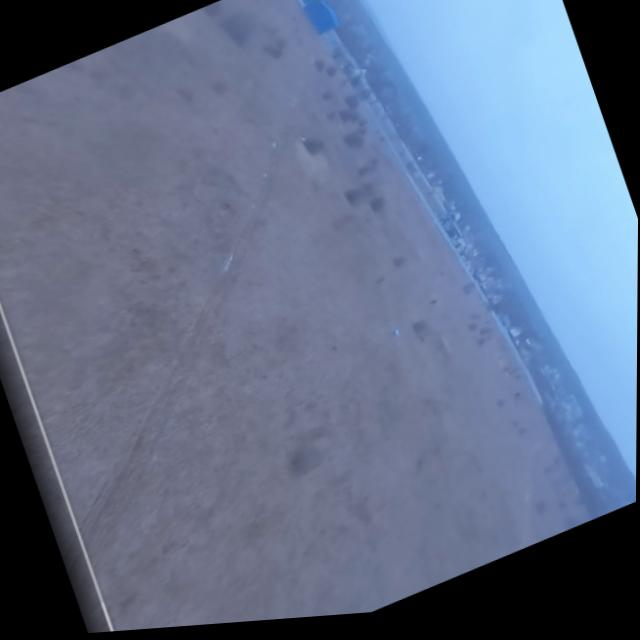planedrone: (383, 316, 410, 346)
